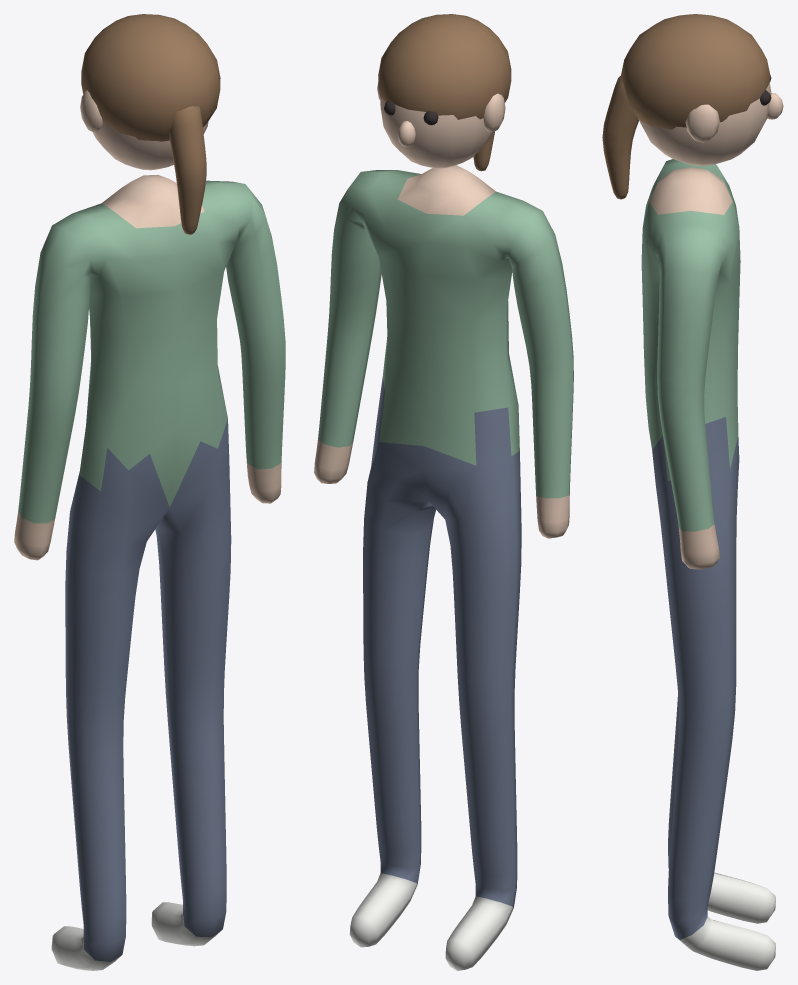
Rendered from Emily.fbx.
3 renders of one model, left to right at view 1: azimuth 30°, elevation 25°; view 2: azimuth 150°, elevation 25°; view 3: azimuth 270°, elevation 25°, orthographic. The views are drawn at different scales.
Visible parts, largest first — view 1: Emily_Standing; view 2: Emily_Standing; view 3: Emily_Standing.
Part boxes in pixels (x1,y1,x2,y2): Emily_Standing: (14,14,285,970); Emily_Standing: (314,14,573,970); Emily_Standing: (602,14,783,970).
Size of the model in its own units: 0.4542 by 1.6 by 0.2828.
